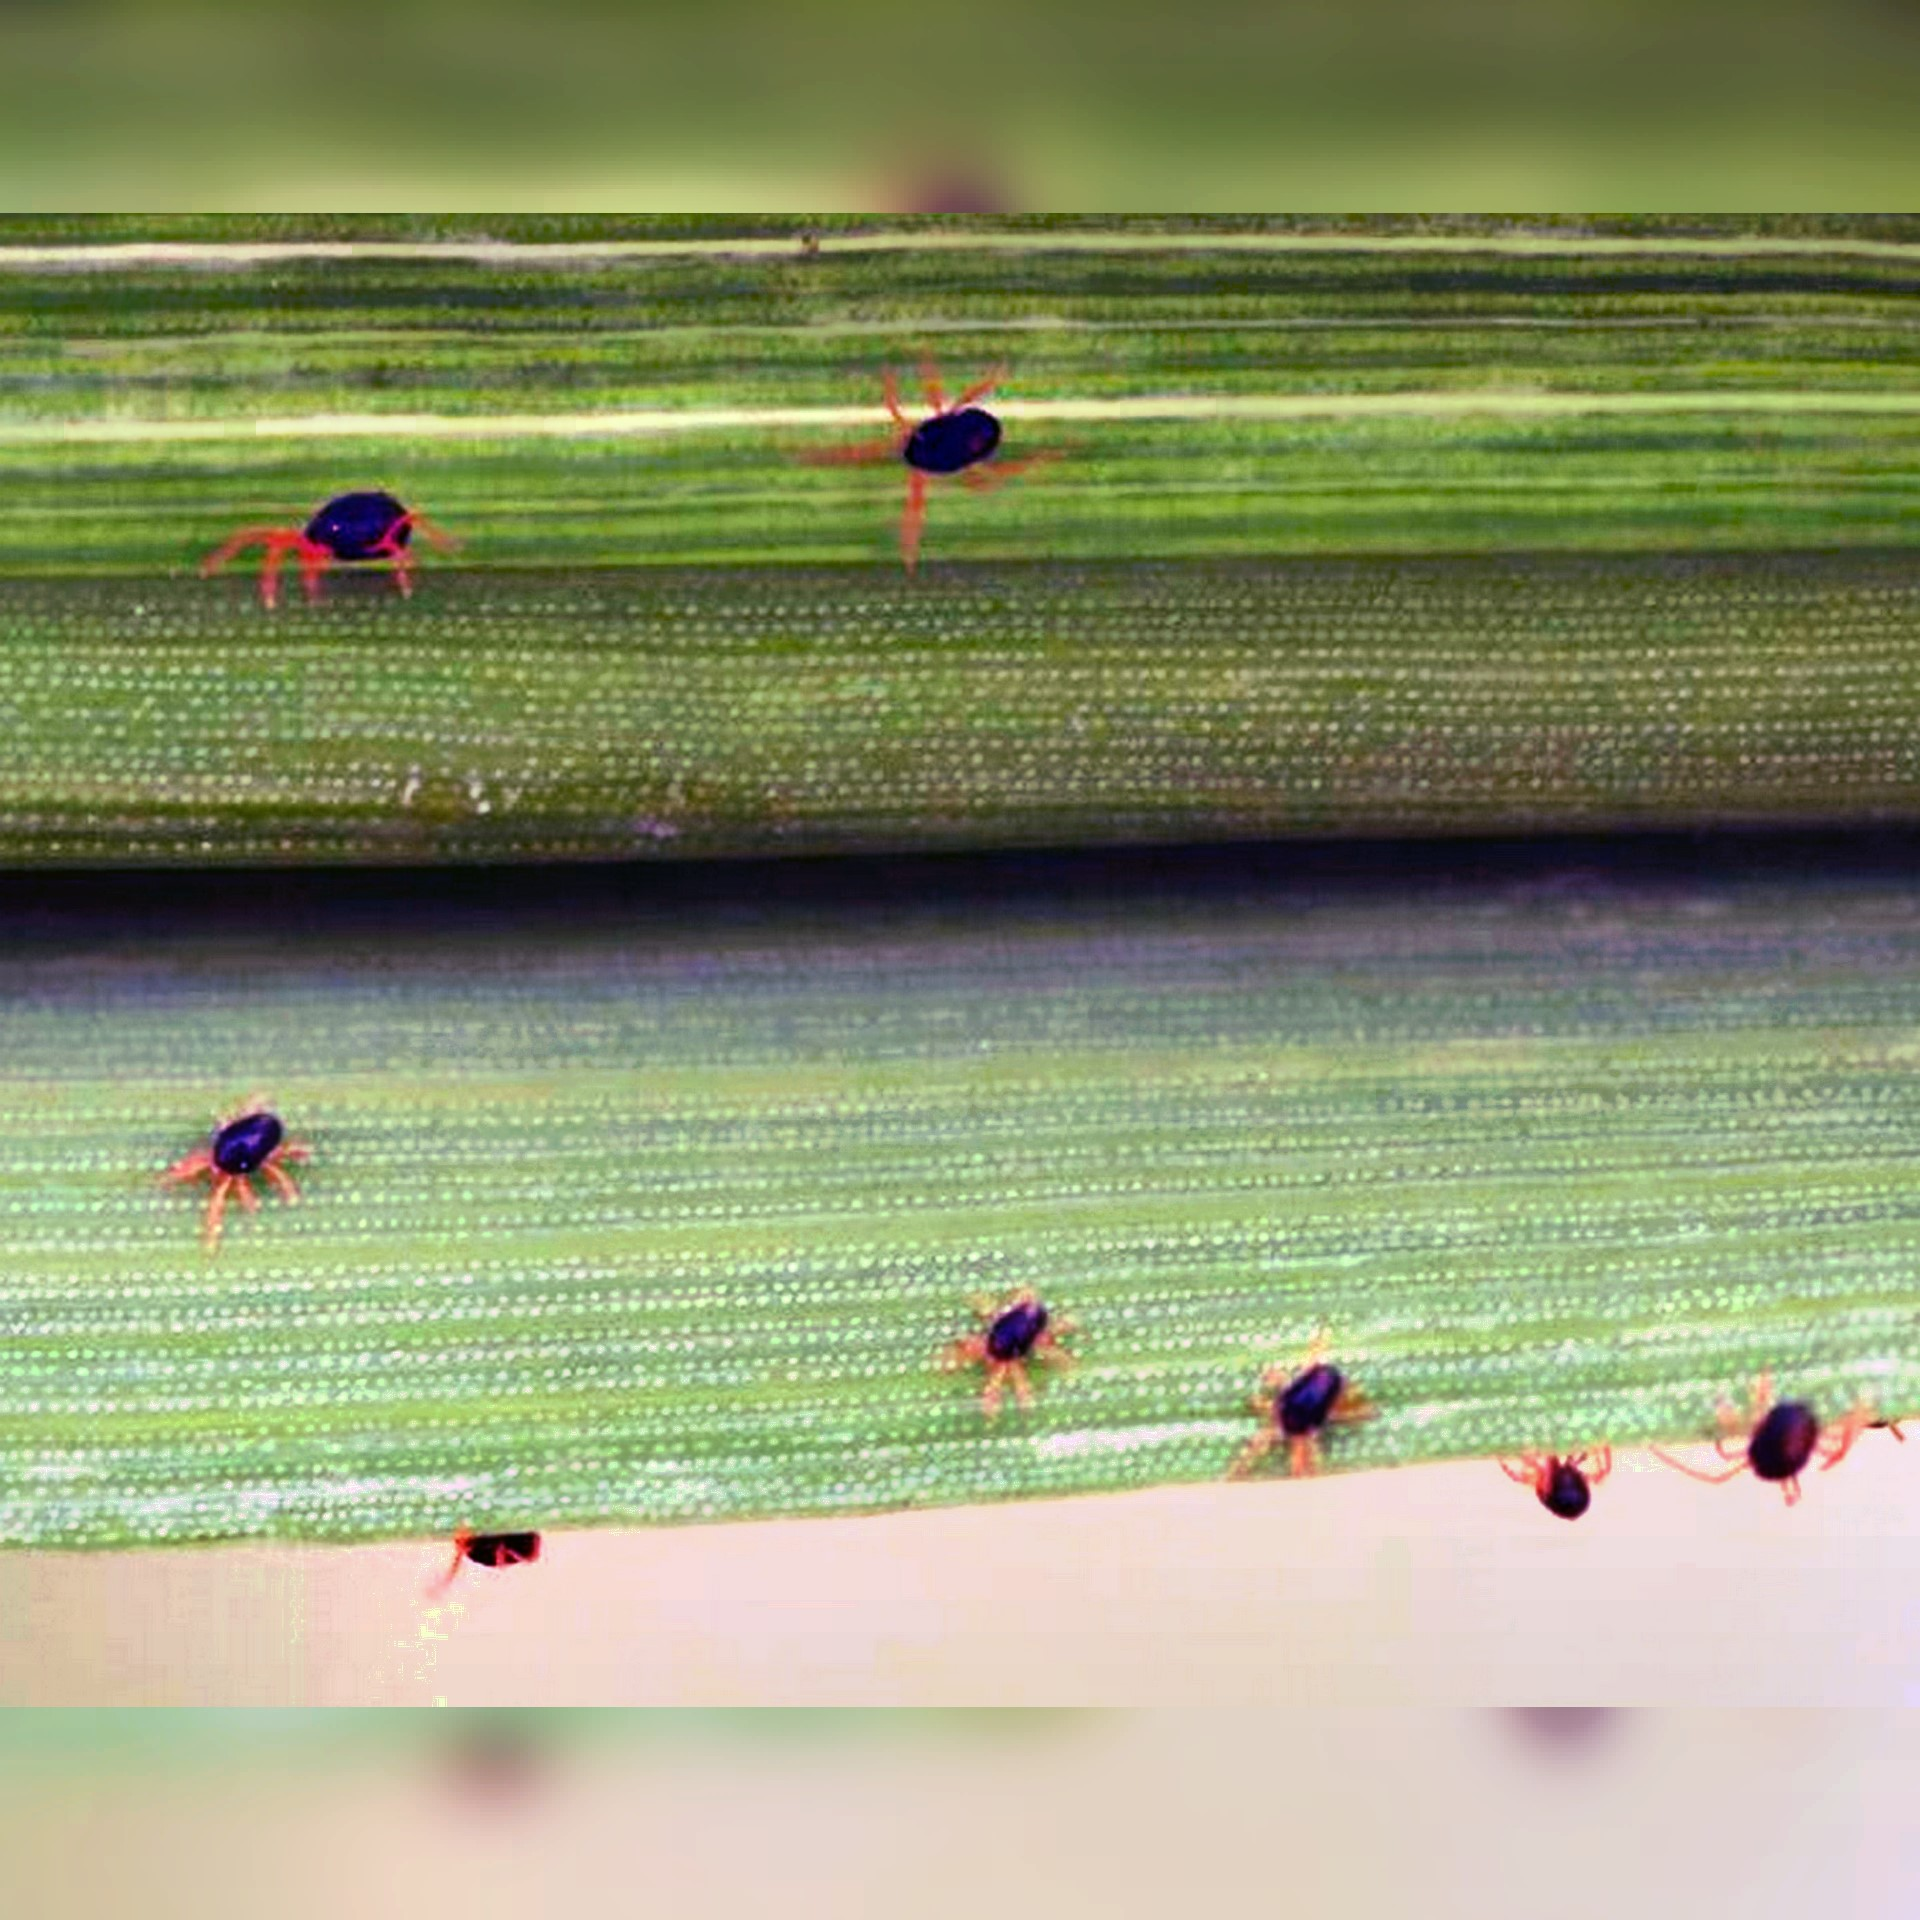Wheat Red Spider: (192, 469, 480, 615), (135, 1080, 341, 1252)
